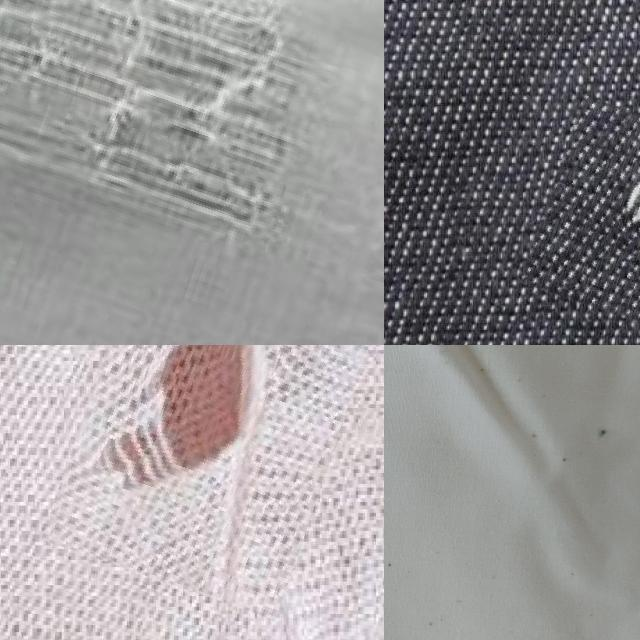other: (62, 345, 350, 604)
stains: (531, 114, 640, 345)
